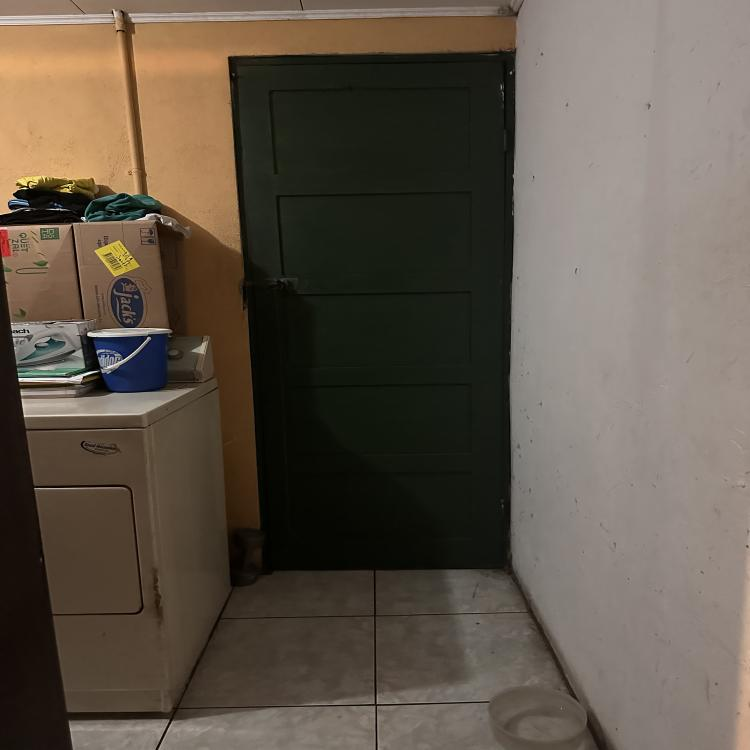ClosedDoor: (240, 50, 518, 575)
